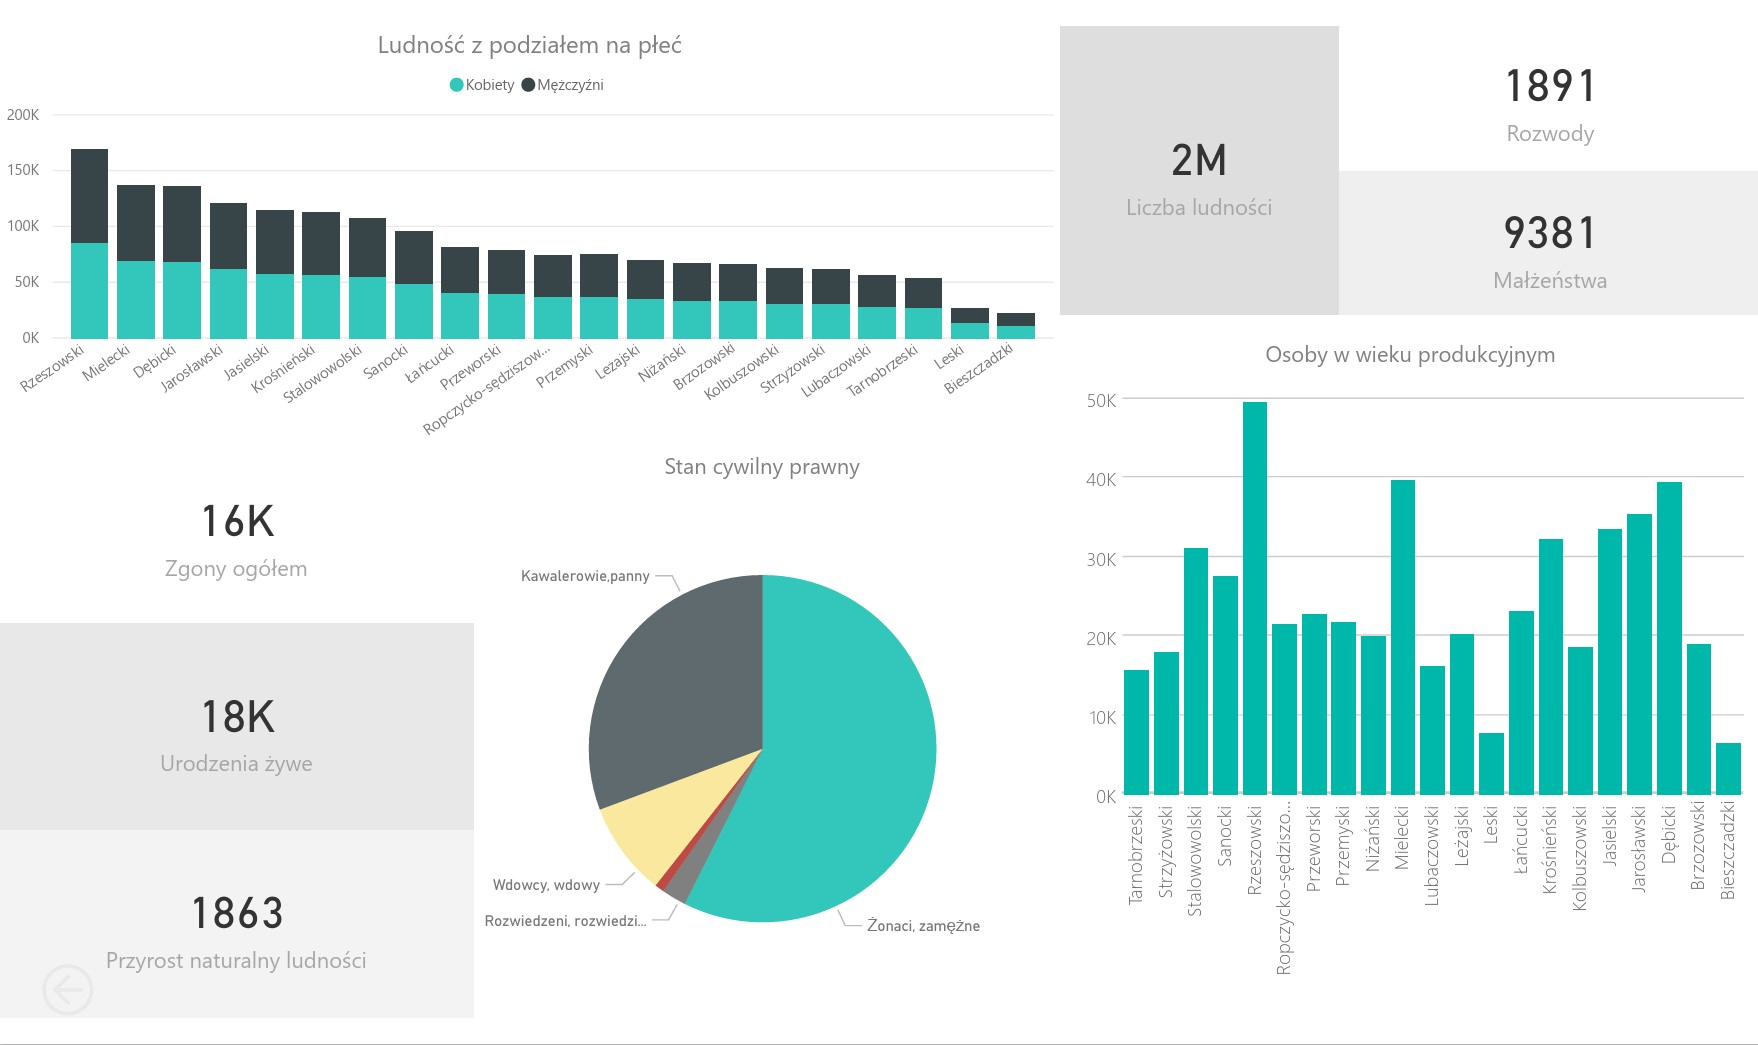

The dashboard page shown, as its layout file describes it:
{"tool":"powerbi","page":{"name":"pulpit_kierowniczy","canvas":[1280,720],"ordinal":0},"visuals":[{"type":"columnChart","title":"Ludność z podziałem na płeć","fields":{"Category":["dane surowe.Powiat"],"Y":["Sum(dane surowe.Kobiety)","Sum(dane surowe.Mężczyźni)"]},"box":[0,0,770.9,308.4],"z":0},{"type":"card","fields":{"Values":["Sum(dane surowe.Zgony ogółem)"]},"box":[0,298.9,345.4,135.2],"z":1000},{"type":"card","fields":{"Values":["Sum(dane surowe.Urodzenia żywe)"]},"box":[0,434.1,345.4,149.9],"z":2000},{"type":"PBI_CV_73744D90_4DC9_4F18_8BA5_EE8FA5C98035","title":"Osoby w wieku produkcyjnym","fields":{"Category":["dane surowe.Powiat"],"Values":["Miary (2).Kobiety w wieku produkcyjnym","Miary (2).Mężczyźni w wieku produkcyjnym"]},"box":[770.9,226.5,509.1,493.6],"z":3000},{"type":"pieChart","title":"Stan cywilny prawny","fields":{"Y":["Sum(dane surowe.Żonaci, zamężne)","Sum(dane surowe.Rozwiedzeni, rozwiedzione)","Sum(dane surowe.Nieustalony)","Sum(dane surowe.Wdowcy, wdowy)","Sum(dane surowe.Kawalerowie,panny)"]},"box":[345.4,308.4,418.6,411.7],"z":4000},{"type":"card","fields":{"Values":["Miary (2).Przyrost naturalny ludności"]},"box":[0,584,345.4,136.1],"z":5000},{"type":"card","fields":{"Values":["Miary (2).Liczba ludności"]},"box":[770.9,0,202.4,209.3],"z":6000},{"type":"card","fields":{"Values":["Sum(dane surowe.Małżeństwa)"]},"box":[973.4,105.1,306.6,104.2],"z":7000},{"type":"basicShape","box":[0,680.3,100.1,39.9],"z":8000},{"type":"card","fields":{"Values":["Sum(dane surowe.Rozwody)"]},"box":[973.4,0,306.6,100.8],"z":9000}]}

Visuals, with their boxes on the page's 1280x720 design canvas (x1, y1, x2, y2). These are canvas units, not pixel positions in the 1758x1045 screenshot, which may show the page scaled, cropped or inside an application window:
"Ludność z podziałem na płeć" columnChart: (0,0,771,308)
card - Sum(dane surowe.Zgony ogółem): (0,299,345,434)
card - Sum(dane surowe.Urodzenia żywe): (0,434,345,584)
"Osoby w wieku produkcyjnym" PBI_CV_73744D90_4DC9_4F18_8BA5_EE8FA5C98035: (771,226,1280,720)
"Stan cywilny prawny" pieChart: (345,308,764,720)
card - Miary (2).Przyrost naturalny ludności: (0,584,345,720)
card - Miary (2).Liczba ludności: (771,0,973,209)
card - Sum(dane surowe.Małżeństwa): (973,105,1280,209)
basicShape: (0,680,100,720)
card - Sum(dane surowe.Rozwody): (973,0,1280,101)
